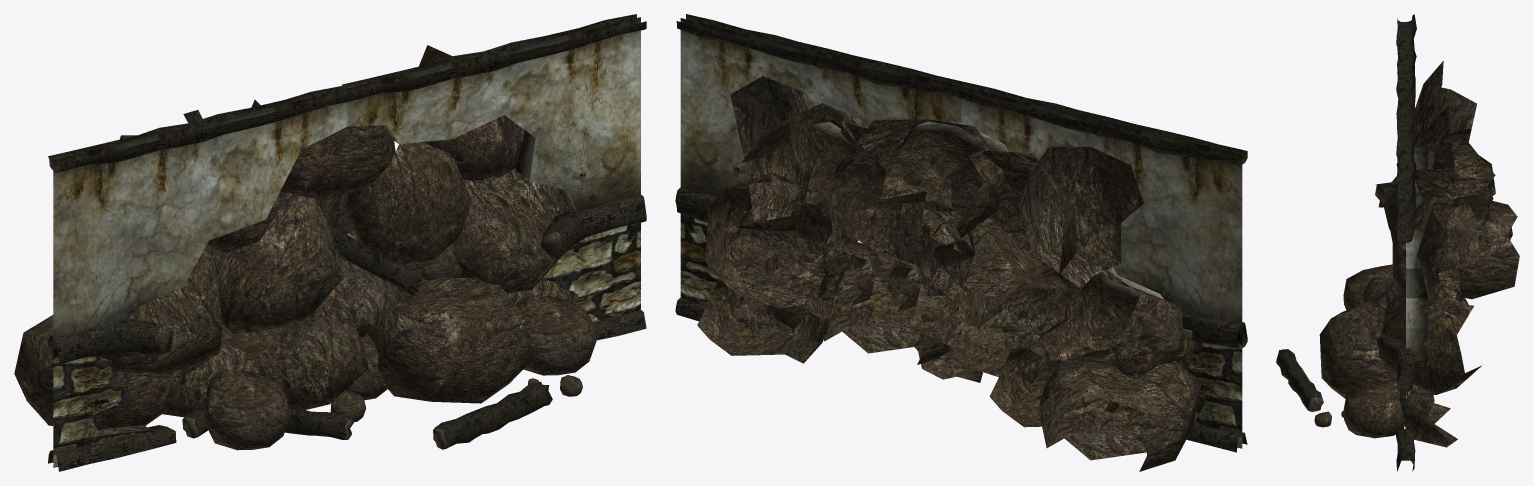
File: default_broken_4x8m.dae
The picture shows the model from 3 angles, left to right: view 1: azimuth 30°, elevation 25°; view 2: azimuth 150°, elevation 25°; view 3: azimuth 270°, elevation 25°; orthographic projection. The views are drawn at different scales.
Parts seen in each view (by area): view 1: polySurface172, polySurface5, polySurface4, polySurface143, polySurface7; view 2: polySurface172, polySurface5, polySurface4, polySurface7, polySurface143; view 3: polySurface172, polySurface4, polySurface7, polySurface143.
Part boxes in pixels (x1,y1,x2,y2): polySurface172: (14,45,596,450); polySurface5: (53,17,640,467); polySurface4: (48,14,646,471); polySurface143: (182,222,552,449); polySurface7: (384,125,576,210); polySurface172: (697,76,1201,471); polySurface5: (680,18,1242,448); polySurface4: (675,14,1247,452); polySurface7: (727,121,1191,336); polySurface143: (933,239,974,267); polySurface172: (1314,61,1519,447); polySurface4: (1375,14,1416,471); polySurface7: (1406,145,1427,360); polySurface143: (1276,189,1493,411).
Size of the model in its own units: 8 by 4.02 by 3.73.
